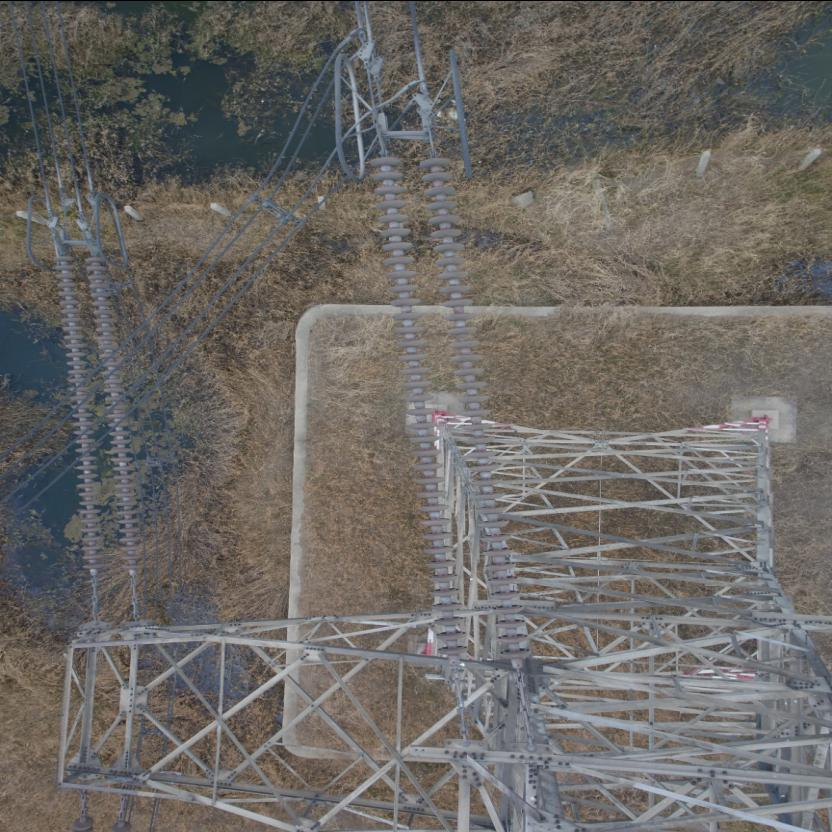insulator: (372, 131, 536, 698), (50, 238, 142, 598)
